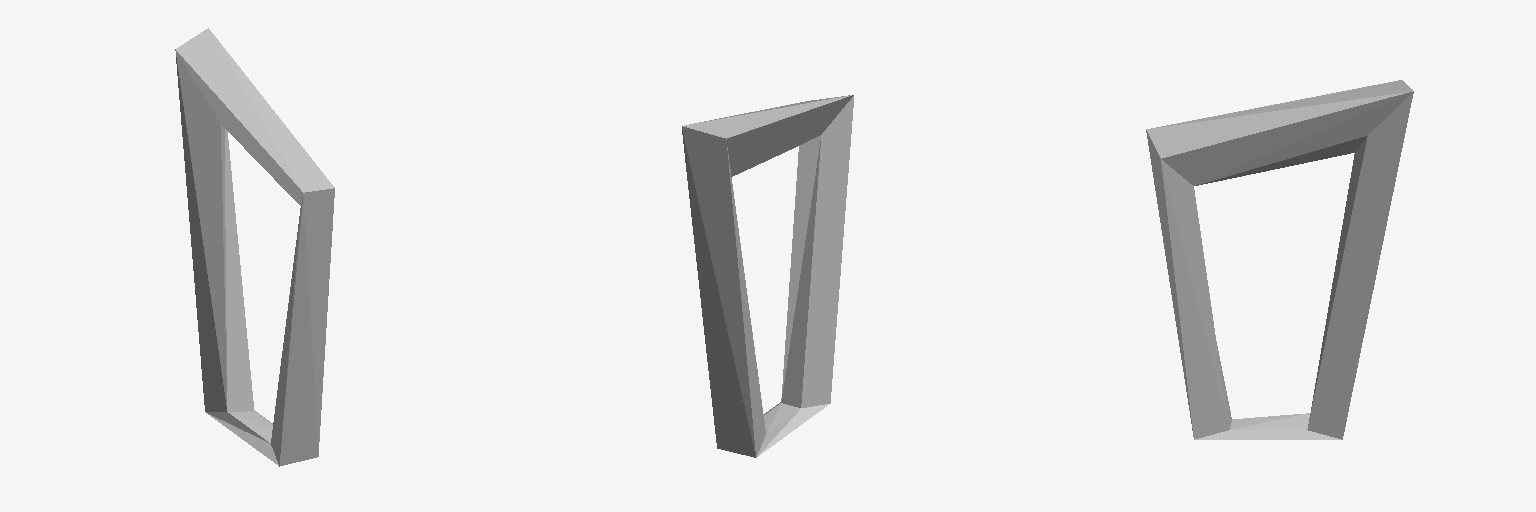
Rendered from portal.obj.
3 renders of one model, left to right at view 1: azimuth 30°, elevation 25°; view 2: azimuth 150°, elevation 25°; view 3: azimuth 270°, elevation 25°, orthographic.
Visible parts, largest first — view 1: Mesh_Cube; view 2: Mesh_Cube; view 3: Mesh_Cube.
Boxes of the visible parts, <box> form: Mesh_Cube: <box>175,28,334,466</box>; Mesh_Cube: <box>682,95,853,457</box>; Mesh_Cube: <box>1146,80,1413,439</box>.
Bounding box in the file's own units: 0.3369 × 2.87 × 2.